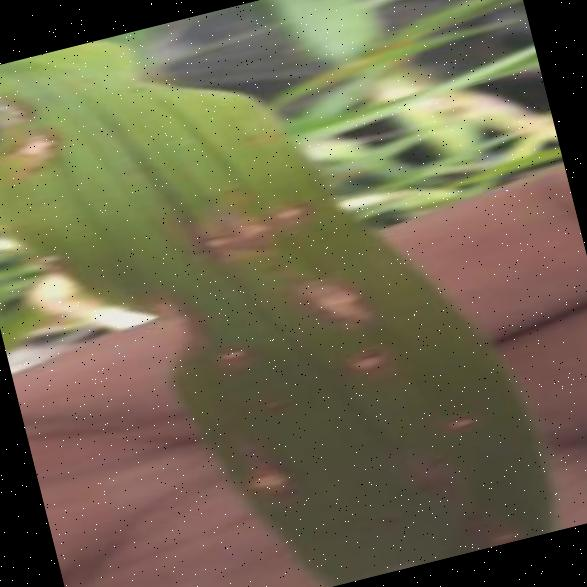Leaf_smut: (274, 242, 384, 350), (171, 192, 280, 280), (0, 105, 83, 187), (224, 444, 296, 512), (336, 331, 411, 387), (426, 391, 494, 450), (266, 172, 318, 242), (195, 328, 260, 378)
